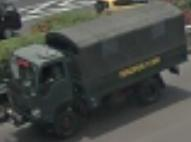truck: (1, 42, 80, 141)
